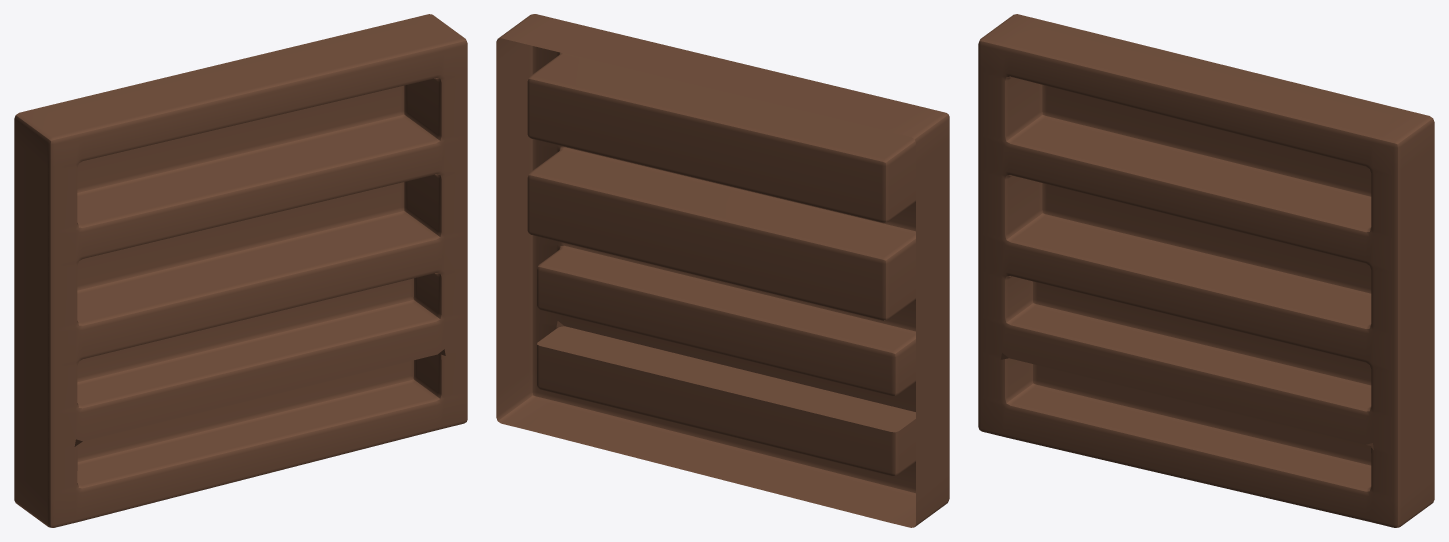
The model's file is Prateleira.fbx.
3 renders of one model, left to right at view 1: azimuth 30°, elevation 25°; view 2: azimuth 150°, elevation 25°; view 3: azimuth 330°, elevation 25°, orthographic.
Visible parts, largest first — view 1: polySurface493; view 2: polySurface493; view 3: polySurface493.
Boxes of the visible parts, box(x1,y1,x2,y2) form: polySurface493: box(14, 14, 467, 527); polySurface493: box(496, 14, 949, 527); polySurface493: box(978, 14, 1434, 527).
Bounding box in the file's own units: 389 × 347 × 57.72.
